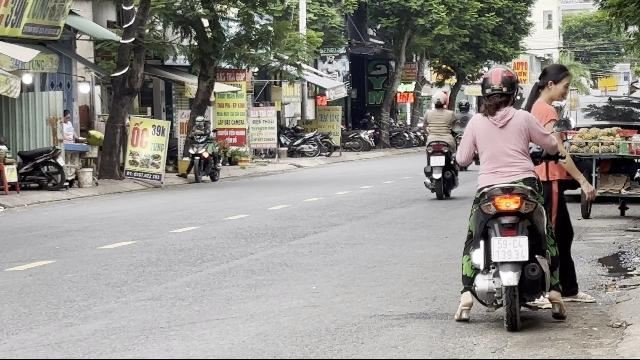helmet: (478, 66, 520, 112)
licenseplate: (491, 236, 527, 260)
motorcyclist: (450, 65, 590, 329)
